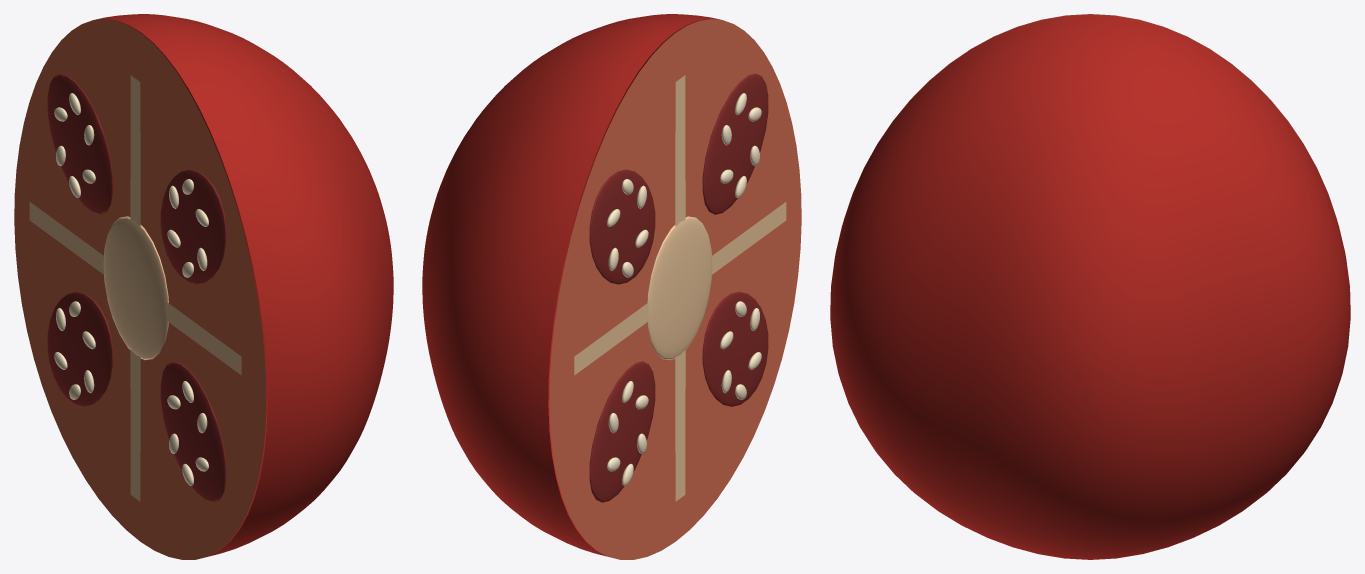
File: big_boy_half.glb
The picture shows the model from 3 angles, left to right: view 1: azimuth 30°, elevation 25°; view 2: azimuth 150°, elevation 25°; view 3: azimuth 270°, elevation 25°; orthographic projection.
Parts seen in each view (by area): view 1: Stout four-chamber Big Boy flesh, Prepared Big Boy half, Four stout Big Boy seed chambers, Reinforced Big Boy central core, Big Boy plump individually modeled seed; view 2: Stout four-chamber Big Boy flesh, Prepared Big Boy half, Four stout Big Boy seed chambers, Reinforced Big Boy central core, Big Boy plump individually modeled seed; view 3: Prepared Big Boy half, Stout four-chamber Big Boy flesh.
Part boxes in pixels (x1,y1,x2,y2): Stout four-chamber Big Boy flesh: (14,19,266,559); Prepared Big Boy half: (94,14,393,556); Four stout Big Boy seed chambers: (47,73,226,502); Reinforced Big Boy central core: (29,75,241,501); Big Boy plump individually modeled seed: (54,93,208,485); Stout four-chamber Big Boy flesh: (549,19,801,559); Prepared Big Boy half: (422,14,721,556); Four stout Big Boy seed chambers: (589,73,768,502); Reinforced Big Boy central core: (574,75,786,501); Big Boy plump individually modeled seed: (607,93,761,485); Prepared Big Boy half: (830,14,1350,559); Stout four-chamber Big Boy flesh: (844,14,1336,218).
Bounding box in the file's own units: 0.8669 × 1.72 × 1.56.
